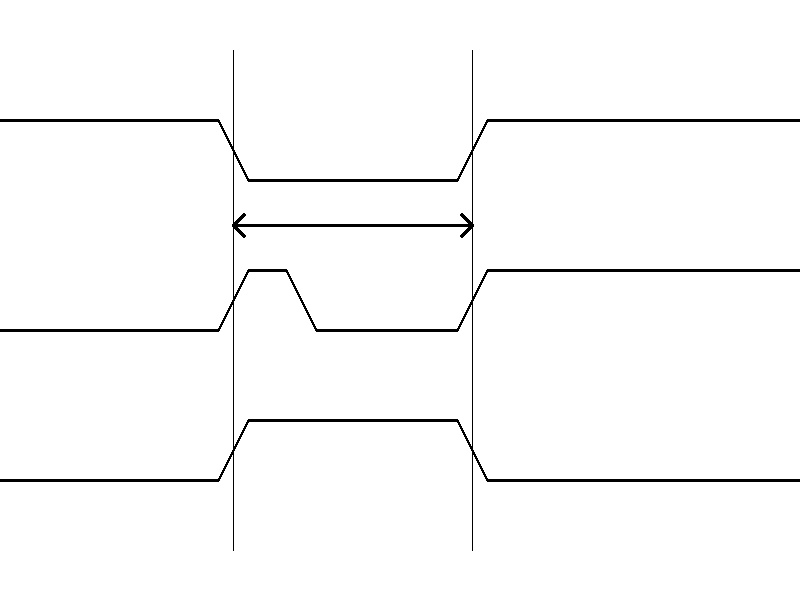double_arrow: (233, 210, 472, 240)
